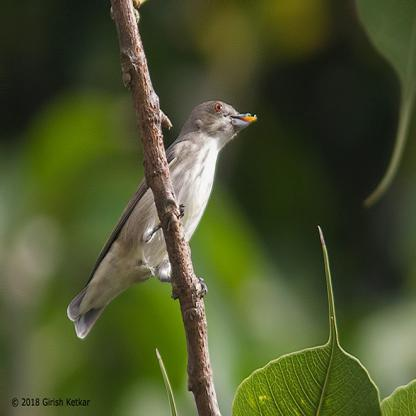Burung: (62, 102, 258, 341)
